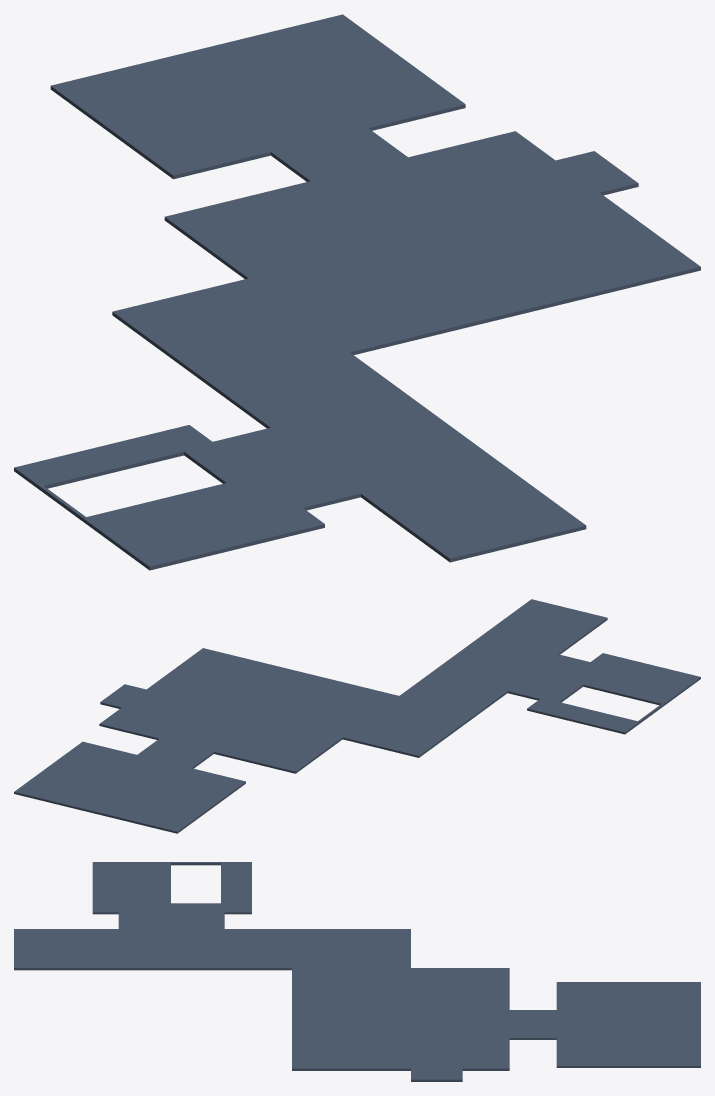
File: floor_geometry.obj
3 renders of one model, top to bottom at view 1: azimuth 30°, elevation 25°; view 2: azimuth 150°, elevation 25°; view 3: azimuth 270°, elevation 25°, orthographic. The views are drawn at different scales.
Visible parts, largest first — view 1: Floor_004_l_old_core_raspredelitelnyy_holl_starog_floor, Floor_003_l_old_core_obschiy_dostup_lyudi_i_oboru_floor, Floor_007_l_old_core_staryy_rezervnyy_cu_floor, Floor_001_l_old_core_staraya_lestnica_floor, Floor_009_l_old_core_releynaya_floor, Floor_002_l_old_core_staryy_vestibyul_floor, Floor_010_l_old_core_komnata_floor, Floor_008_l_old_core_corridor_floor, Floor_012_l_old_core_svyazka_s_arhivom_floor; view 2: Floor_004_l_old_core_raspredelitelnyy_holl_starog_floor, Floor_003_l_old_core_obschiy_dostup_lyudi_i_oboru_floor, Floor_007_l_old_core_staryy_rezervnyy_cu_floor, Floor_001_l_old_core_staraya_lestnica_floor, Floor_009_l_old_core_releynaya_floor, Floor_002_l_old_core_staryy_vestibyul_floor, Floor_010_l_old_core_komnata_floor, Floor_008_l_old_core_corridor_floor, Floor_012_l_old_core_svyazka_s_arhivom_floor; view 3: Floor_004_l_old_core_raspredelitelnyy_holl_starog_floor, Floor_003_l_old_core_obschiy_dostup_lyudi_i_oboru_floor, Floor_007_l_old_core_staryy_rezervnyy_cu_floor, Floor_001_l_old_core_staraya_lestnica_floor, Floor_009_l_old_core_releynaya_floor, Floor_010_l_old_core_komnata_floor, Floor_002_l_old_core_staryy_vestibyul_floor, Floor_008_l_old_core_corridor_floor, Floor_012_l_old_core_svyazka_s_arhivom_floor.
Part boxes in pixels (x1,y1,x2,y2): Floor_004_l_old_core_raspredelitelnyy_holl_starog_floor: [164, 132, 700, 354]; Floor_003_l_old_core_obschiy_dostup_lyudi_i_oboru_floor: [112, 278, 586, 562]; Floor_007_l_old_core_staryy_rezervnyy_cu_floor: [50, 36, 377, 179]; Floor_001_l_old_core_staraya_lestnica_floor: [14, 425, 324, 570]; Floor_009_l_old_core_releynaya_floor: [255, 14, 408, 84]; Floor_002_l_old_core_staryy_vestibyul_floor: [213, 427, 360, 510]; Floor_010_l_old_core_komnata_floor: [322, 63, 465, 129]; Floor_008_l_old_core_corridor_floor: [271, 128, 407, 181]; Floor_012_l_old_core_svyazka_s_arhivom_floor: [558, 151, 638, 195]; Floor_004_l_old_core_raspredelitelnyy_holl_starog_floor: [101, 648, 398, 773]; Floor_003_l_old_core_obschiy_dostup_lyudi_i_oboru_floor: [342, 599, 607, 757]; Floor_007_l_old_core_staryy_rezervnyy_cu_floor: [63, 753, 245, 833]; Floor_001_l_old_core_staraya_lestnica_floor: [527, 653, 700, 734]; Floor_009_l_old_core_releynaya_floor: [14, 764, 99, 805]; Floor_002_l_old_core_staryy_vestibyul_floor: [507, 654, 589, 700]; Floor_010_l_old_core_komnata_floor: [51, 741, 131, 776]; Floor_008_l_old_core_corridor_floor: [137, 738, 213, 768]; Floor_012_l_old_core_svyazka_s_arhivom_floor: [100, 684, 144, 708]; Floor_004_l_old_core_raspredelitelnyy_holl_starog_floor: [292, 968, 509, 1070]; Floor_003_l_old_core_obschiy_dostup_lyudi_i_oboru_floor: [14, 929, 410, 970]; Floor_007_l_old_core_staryy_rezervnyy_cu_floor: [556, 982, 700, 1040]; Floor_001_l_old_core_staraya_lestnica_floor: [92, 862, 251, 914]; Floor_009_l_old_core_releynaya_floor: [623, 1040, 700, 1067]; Floor_010_l_old_core_komnata_floor: [556, 1040, 622, 1067]; Floor_002_l_old_core_staryy_vestibyul_floor: [118, 912, 224, 928]; Floor_008_l_old_core_corridor_floor: [509, 1010, 556, 1039]; Floor_012_l_old_core_svyazka_s_arhivom_floor: [411, 1069, 462, 1081].
Size of the model in its own units: 43.31 by 0.2 by 57.73.
